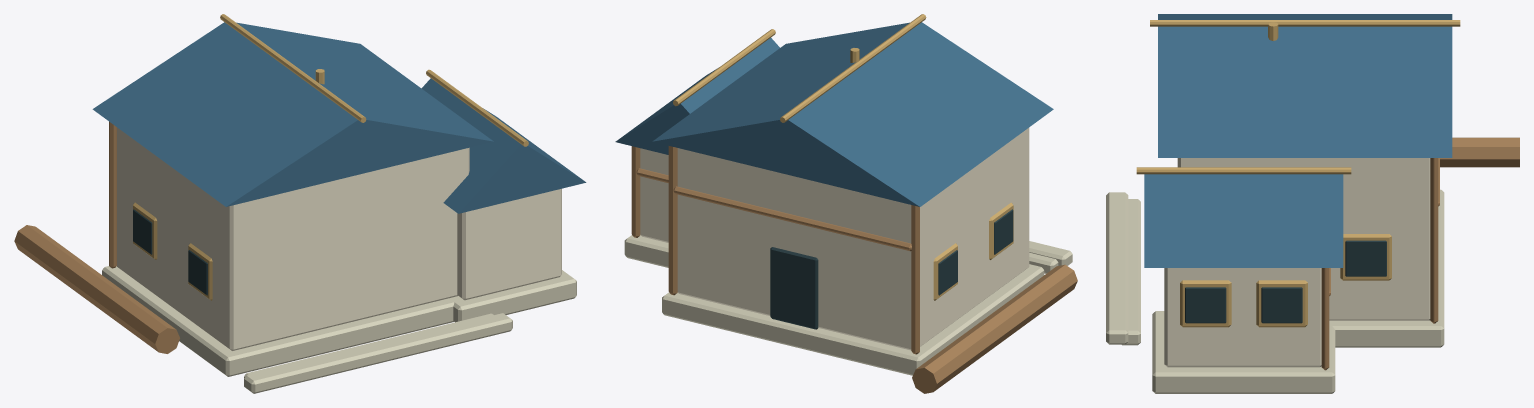
File: level_17.glb
3 renders of one model, left to right at view 1: azimuth 30°, elevation 25°; view 2: azimuth 150°, elevation 25°; view 3: azimuth 270°, elevation 25°, orthographic. The views are drawn at different scales.
Parts seen in each view (by area): view 1: timber_yard — level 17; view 2: timber_yard — level 17; view 3: timber_yard — level 17.
Part boxes in pixels (x1=…): timber_yard — level 17: x1=14, y1=14, x2=586, y2=393; timber_yard — level 17: x1=615, y1=14, x2=1077, y2=393; timber_yard — level 17: x1=1106, y1=14, x2=1519, y2=393.
Size of the model in its own units: 6.43 by 3.63 by 5.2.
